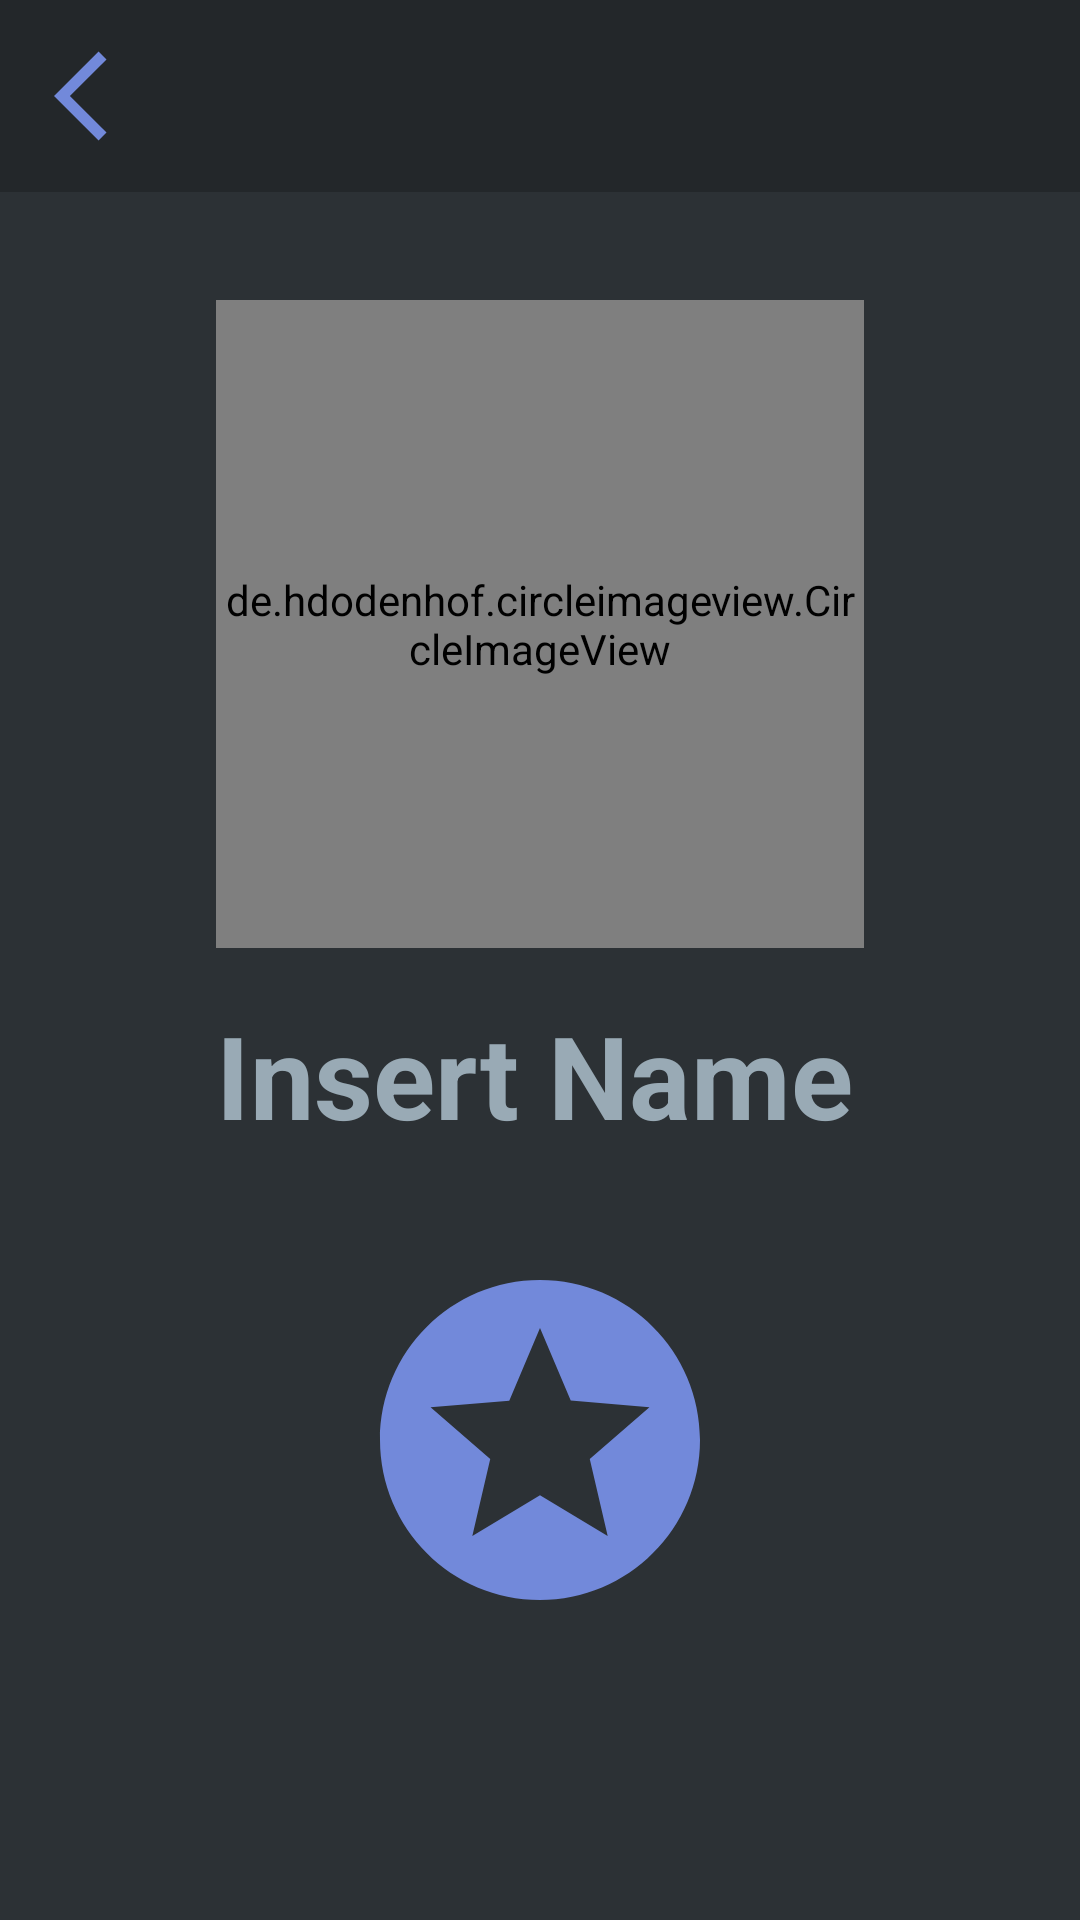

Where icons sit on this 1080w x 1920h app screen, as (x1, y1, x2, y2):
arrow back: (54, 51, 107, 141)
stars: (380, 1280, 700, 1600)
